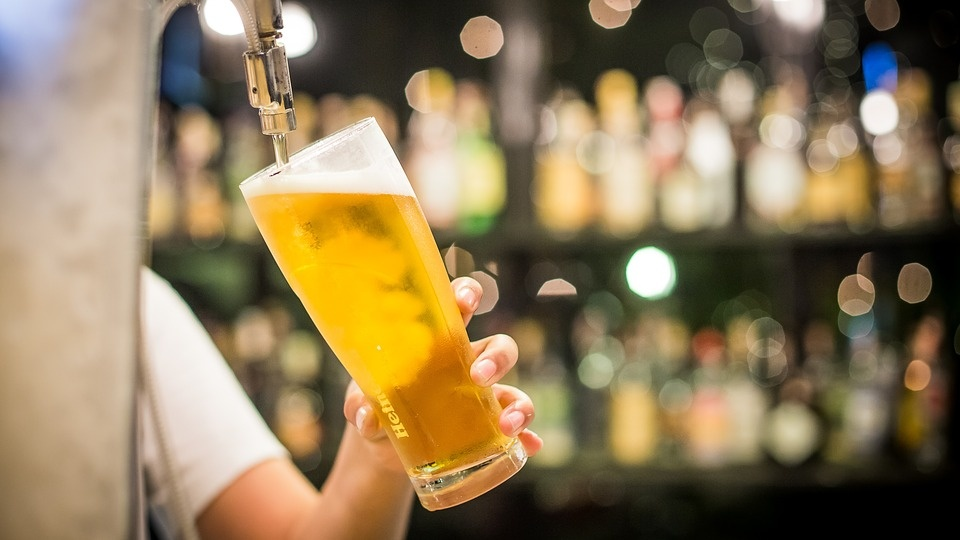glassBeer: (245, 111, 526, 501)
